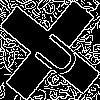U: (25, 25, 83, 82)
